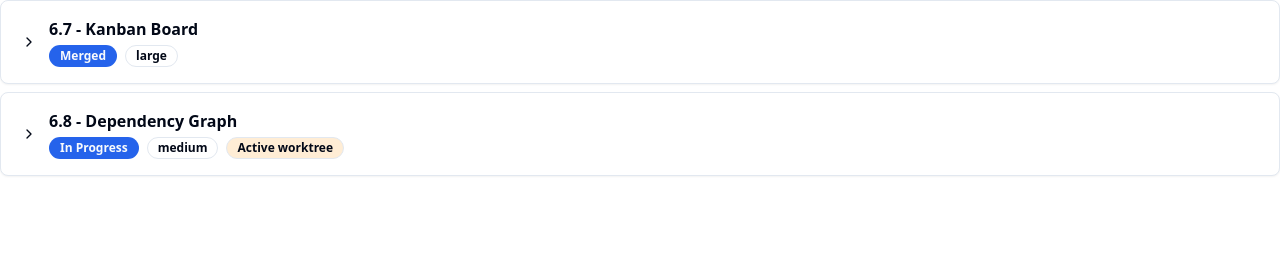
Test: DependencyListView › should show blocking badge for blocking dependencies
Expand dependencies
Click the button without text in the row of "Merged".
click(29, 42)  # box top-left (17, 30), bottom-right (41, 54)
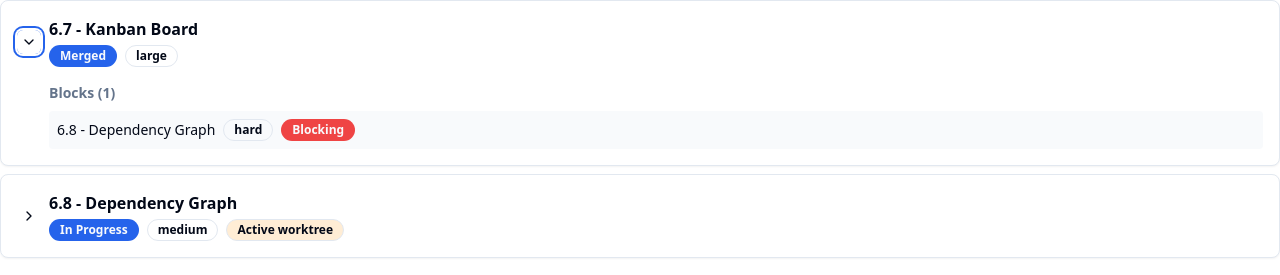
Expected: the text "Blocking" is shown, top-left (281, 119), bottom-right (355, 141)
